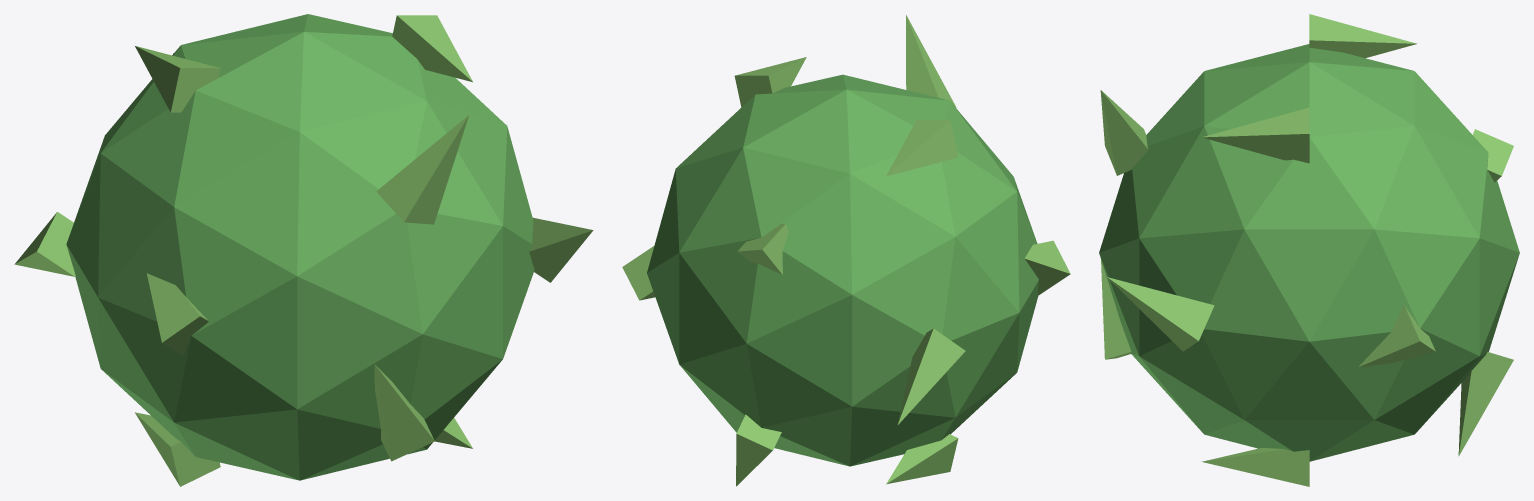
Rendered from item_trap.glb.
The picture shows the model from 3 angles, left to right: view 1: azimuth 30°, elevation 25°; view 2: azimuth 150°, elevation 25°; view 3: azimuth 270°, elevation 25°; orthographic projection. The views are drawn at different scales.
Visible parts, largest first — view 1: part_0, part_6, part_5, part_2, part_1, part_12, part_10, part_11, part_3; view 2: part_0, part_11, part_1, part_3, part_6, part_7, part_2, part_12, part_8, part_9; view 3: part_0, part_2, part_10, part_1, part_7, part_4, part_6, part_9, part_5, part_8.
Part boxes in pixels (left/top/right/bottom): part_0: left=66, top=14, right=534, bottom=480; part_6: left=376, top=115, right=468, bottom=224; part_5: left=374, top=364, right=434, bottom=461; part_2: left=392, top=15, right=472, bottom=82; part_1: left=135, top=46, right=220, bottom=112; part_12: left=146, top=273, right=208, bottom=355; part_10: left=529, top=217, right=593, bottom=282; part_11: left=14, top=212, right=75, bottom=276; part_3: left=135, top=412, right=220, bottom=486; part_0: left=647, top=74, right=1038, bottom=466; part_11: left=897, top=328, right=965, bottom=424; part_1: left=886, top=120, right=958, bottom=176; part_3: left=886, top=434, right=958, bottom=484; part_6: left=906, top=15, right=956, bottom=107; part_7: left=736, top=414, right=781, bottom=486; part_2: left=734, top=57, right=806, bottom=107; part_12: left=1024, top=240, right=1070, bottom=295; part_8: left=737, top=223, right=788, bottom=274; part_9: left=622, top=246, right=654, bottom=300; part_0: left=1099, top=44, right=1519, bottom=461; part_2: left=1202, top=107, right=1309, bottom=163; part_10: left=1107, top=277, right=1214, bottom=351; part_1: left=1309, top=14, right=1417, bottom=58; part_7: left=1458, top=352, right=1513, bottom=456; part_4: left=1201, top=447, right=1309, bottom=486; part_6: left=1100, top=90, right=1148, bottom=175; part_9: left=1358, top=305, right=1435, bottom=367; part_5: left=1101, top=260, right=1131, bottom=359; part_8: left=1473, top=129, right=1513, bottom=182.
Size of the model in its own units: 0.7 by 0.7 by 0.7.
